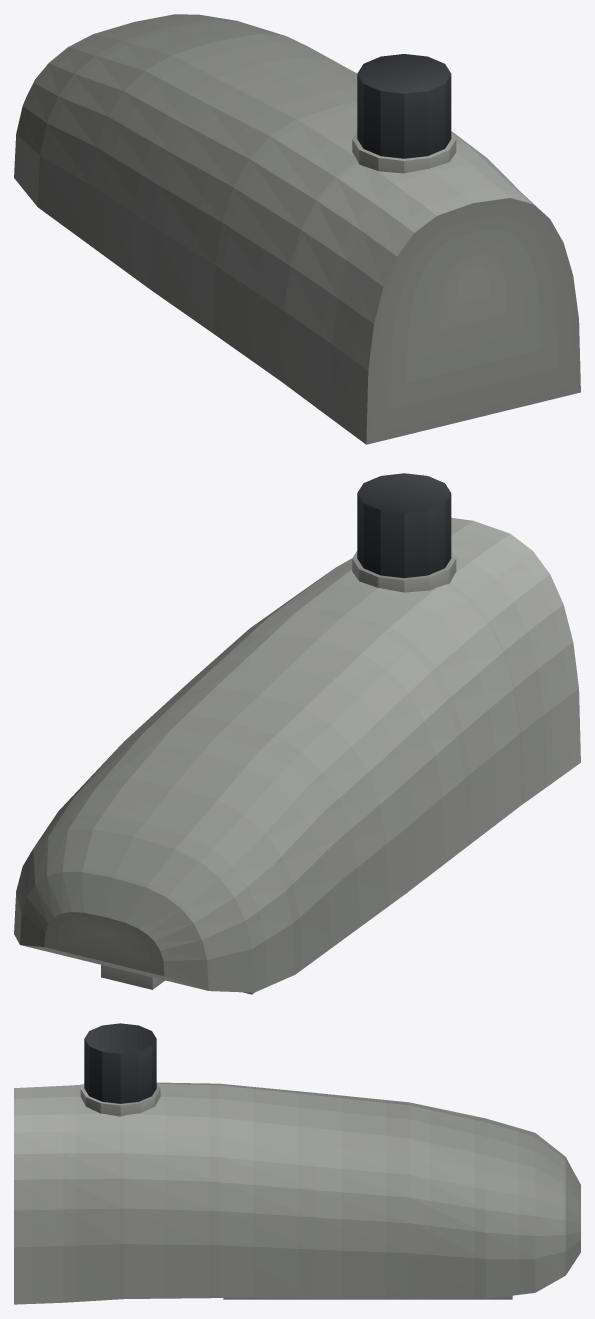
Rendered from streetlight_gem400r3cu.obj.
3 renders of one model, top to bottom at view 1: azimuth 30°, elevation 25°; view 2: azimuth 150°, elevation 25°; view 3: azimuth 270°, elevation 25°, orthographic. The views are drawn at different scales.
Parts seen in each view (by area): view 1: fixture; view 2: fixture; view 3: fixture.
Boxes of the visible parts, left/top/right/bottom form: fixture: left=14, top=14, right=580, bottom=444; fixture: left=14, top=473, right=580, bottom=994; fixture: left=14, top=1023, right=580, bottom=1304.
Size of the model in its own units: 0.375 by 0.4092 by 0.9312.
